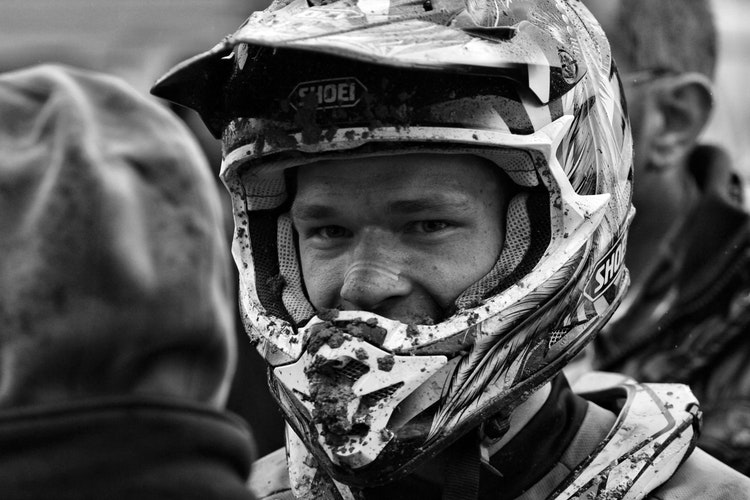helmet: (193, 7, 642, 452)
